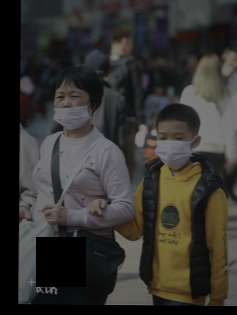with_mask: (51, 86, 94, 132), (155, 129, 192, 170)
